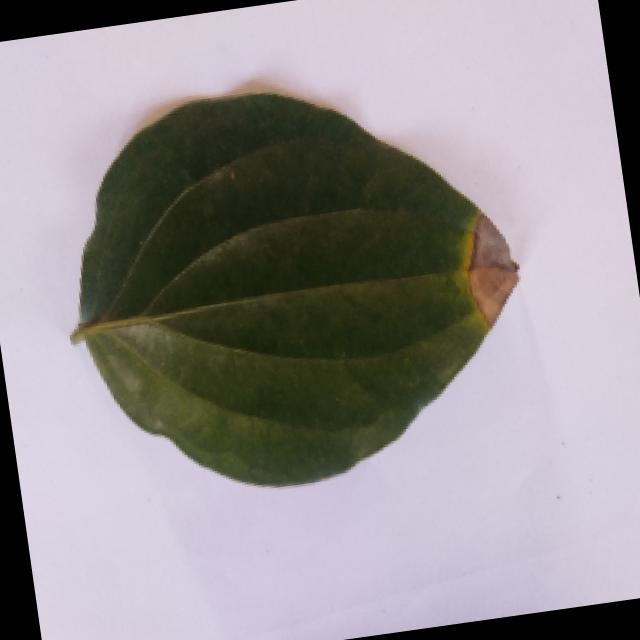footrot: (34, 54, 540, 514)
